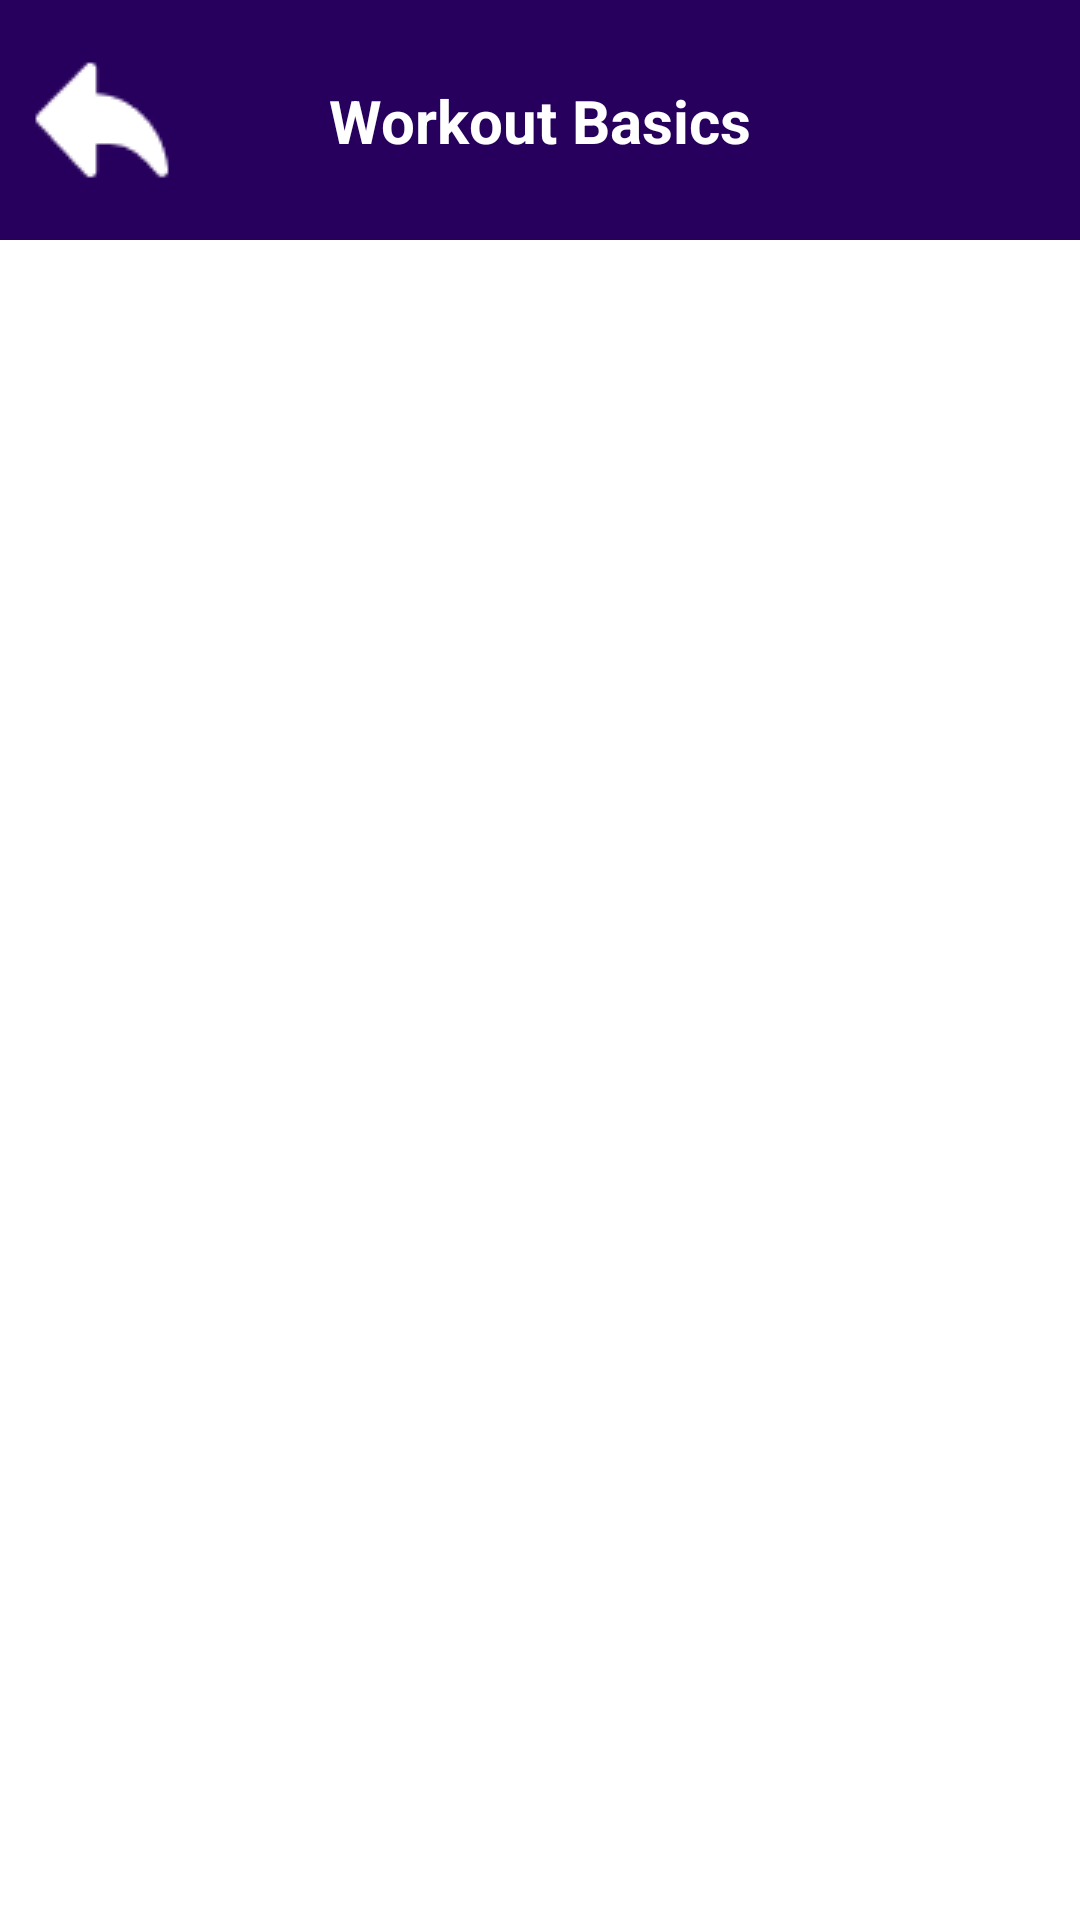

Point at icon controls on the screen. Image size 1080px x 1920px, points as (x=x, y=y).
backbutton: (x=102, y=120)
